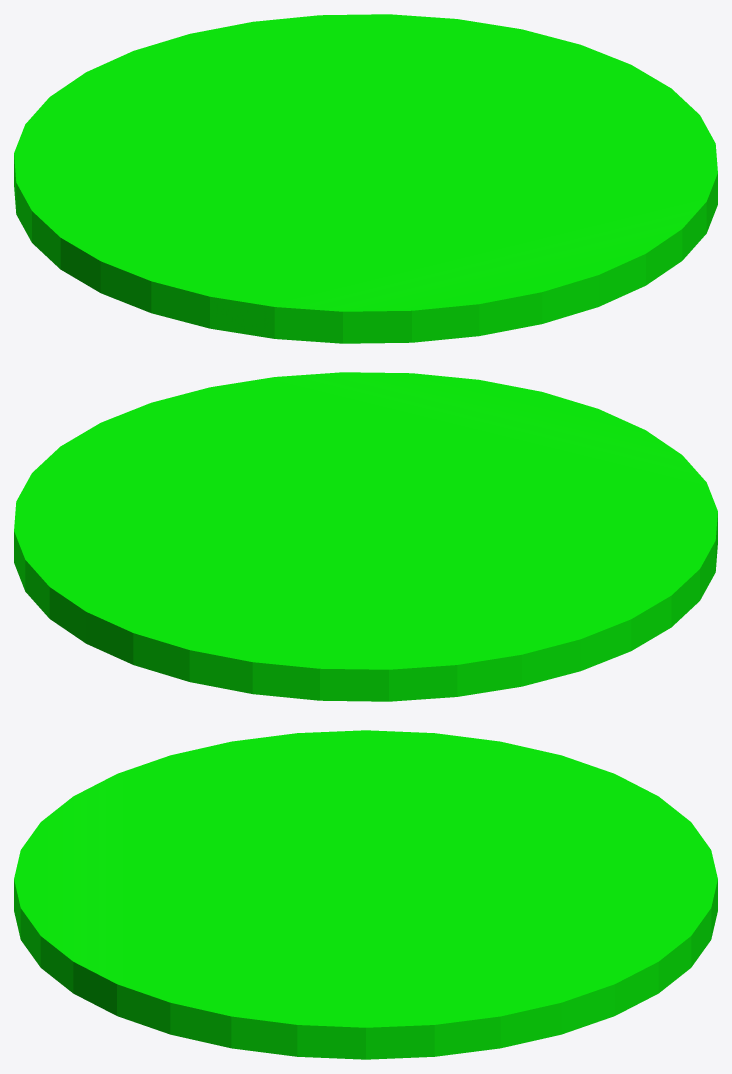
The model's file is M1_PlayerPoints.fbx.
3 views of the same model, one above another, from view 1: azimuth 30°, elevation 25°; view 2: azimuth 150°, elevation 25°; view 3: azimuth 270°, elevation 25° (orthographic).
Parts seen in each view (by area): view 1: Point1; view 2: Point1; view 3: Point1.
Part boxes in pixels (x1,y1,x2,y2): Point1: (14, 14, 717, 343); Point1: (14, 372, 717, 701); Point1: (14, 730, 717, 1059).
Size of the model in its own units: 4 by 0.2 by 4.
